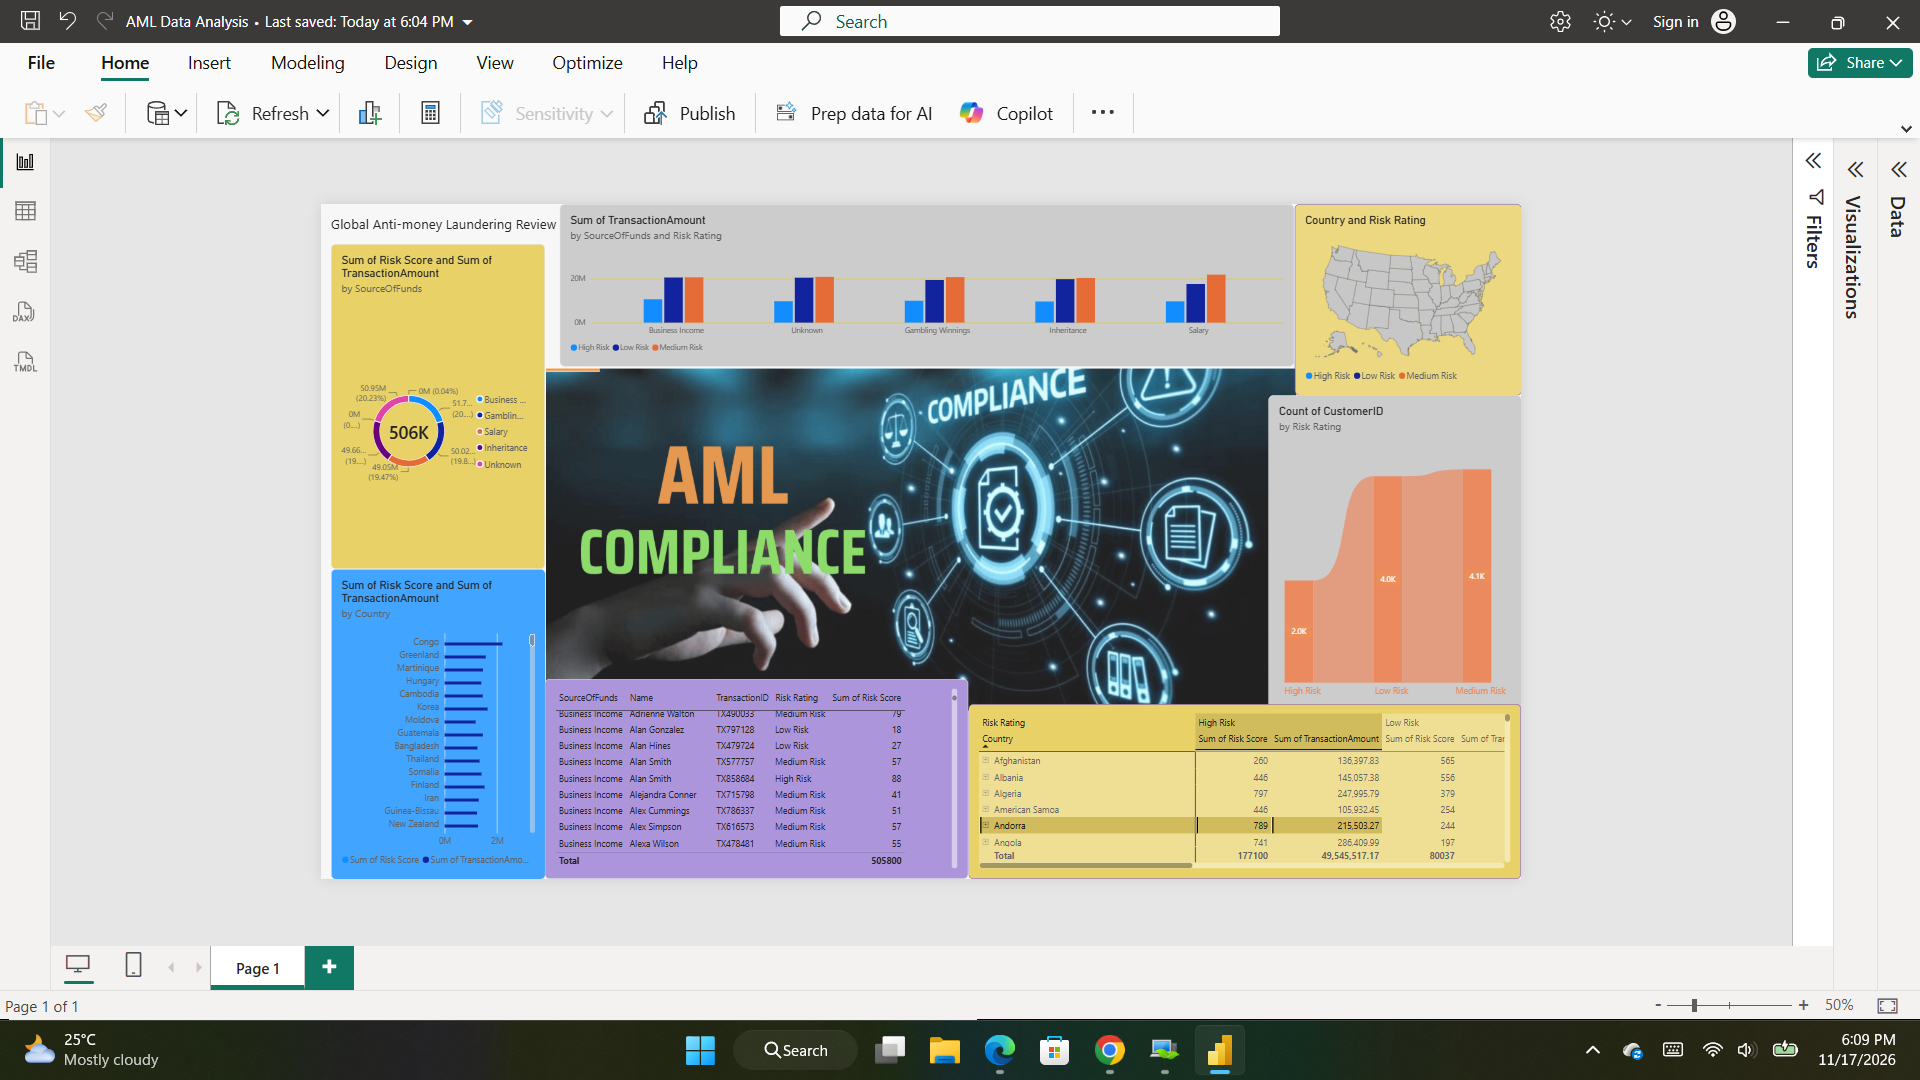

The dashboard page shown, as its layout file describes it:
{"tool":"powerbi","page":{"name":"Page 1","canvas":[1920,1080],"ordinal":0},"visuals":[{"type":"textbox","box":[16,16,368,48],"z":6000},{"type":"donutChart","fields":{"Category":["aml_kyc_lottery_data.SourceOfFunds"],"Y":["Sum(aml_kyc_lottery_data.Risk Score)","Sum(aml_kyc_lottery_data.TransactionAmount)"]},"box":[16.7,64.7,342.3,519.8],"z":6002},{"type":"clusteredBarChart","fields":{"Category":["aml_kyc_lottery_data.Country"],"Y":["Sum(aml_kyc_lottery_data.Risk Score)","Sum(aml_kyc_lottery_data.TransactionAmount)"]},"box":[16,583.8,343.5,496.6],"z":6003},{"type":"shapeMap","fields":{"Category":["aml_kyc_lottery_data.Country"],"Series":["aml_kyc_lottery_data.Risk Rating"]},"box":[1557.3,0,363.1,306.1],"z":6004},{"type":"tableEx","fields":{"Values":["aml_kyc_lottery_data.SourceOfFunds","aml_kyc_lottery_data.Name","aml_kyc_lottery_data.TransactionID","aml_kyc_lottery_data.Risk Rating","Sum(aml_kyc_lottery_data.Risk Score)"]},"box":[357.5,760,677.5,320],"z":6005},{"type":"ribbonChart","fields":{"Category":["aml_kyc_lottery_data.Risk Rating","aml_kyc_lottery_data.TransactionDate.Variation.Date Hierarchy.Year","aml_kyc_lottery_data.TransactionDate.Variation.Date Hierarchy.Quarter","aml_kyc_lottery_data.TransactionDate.Variation.Date Hierarchy.Month","aml_kyc_lottery_data.TransactionDate.Variation.Date Hierarchy.Day","aml_kyc_lottery_data.TransactionType"],"Y":["CountNonNull(aml_kyc_lottery_data.CustomerID)"]},"box":[1515,305,405,505],"z":6006},{"type":"clusteredColumnChart","fields":{"Category":["aml_kyc_lottery_data.SourceOfFunds"],"Series":["aml_kyc_lottery_data.Risk Rating"],"Y":["Sum(aml_kyc_lottery_data.TransactionAmount)"]},"box":[382.5,0,1175,260],"z":6007},{"type":"pivotTable","fields":{"Columns":["aml_kyc_lottery_data.Risk Rating"],"Rows":["aml_kyc_lottery_data.Country","aml_kyc_lottery_data.Name"],"Values":["Sum(aml_kyc_lottery_data.Risk Score)","Sum(aml_kyc_lottery_data.TransactionAmount)"]},"box":[1036,800,884,280],"z":6008}]}

Visuals, with their boxes on the page's 1920x1080 design canvas (x1, y1, x2, y2). These are canvas units, not pixel positions in the 1920x1080 screenshot, which may show the page scaled, cropped or inside an application window:
textbox: (x1=16, y1=16, x2=384, y2=64)
donutChart - aml_kyc_lottery_data.SourceOfFunds x Sum(aml_kyc_lottery_data.Risk Score): (x1=17, y1=65, x2=359, y2=584)
clusteredBarChart - aml_kyc_lottery_data.Country x Sum(aml_kyc_lottery_data.Risk Score): (x1=16, y1=584, x2=360, y2=1080)
shapeMap - aml_kyc_lottery_data.Country x aml_kyc_lottery_data.Risk Rating: (x1=1557, y1=0, x2=1920, y2=306)
tableEx - aml_kyc_lottery_data.SourceOfFunds x aml_kyc_lottery_data.Name: (x1=358, y1=760, x2=1035, y2=1080)
ribbonChart - aml_kyc_lottery_data.Risk Rating x aml_kyc_lottery_data.TransactionDate.Variation.Date Hierarchy.Year: (x1=1515, y1=305, x2=1920, y2=810)
clusteredColumnChart - aml_kyc_lottery_data.SourceOfFunds x aml_kyc_lottery_data.Risk Rating: (x1=382, y1=0, x2=1558, y2=260)
pivotTable - aml_kyc_lottery_data.Risk Rating x aml_kyc_lottery_data.Country: (x1=1036, y1=800, x2=1920, y2=1080)
